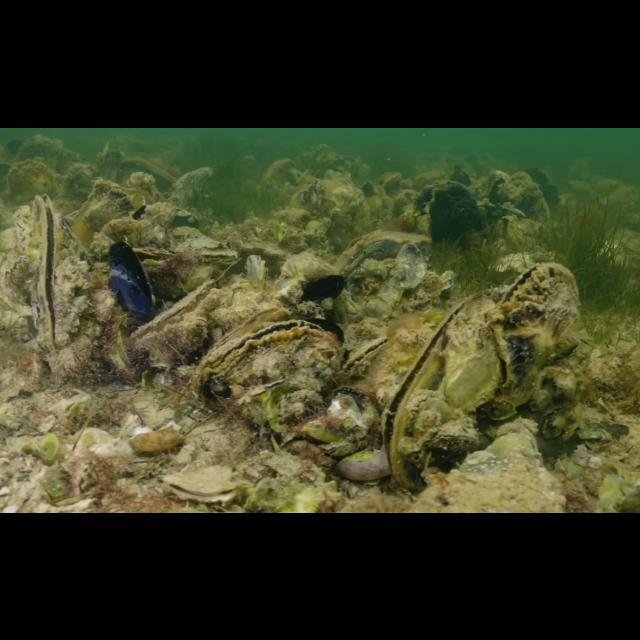Oyster-Closed: (132, 276, 216, 344), (332, 229, 432, 277), (104, 240, 156, 326), (131, 236, 239, 268), (406, 387, 446, 418), (10, 204, 34, 252), (0, 289, 34, 319), (314, 437, 356, 457), (4, 257, 32, 283)
Oyster-Open: (380, 281, 506, 489), (496, 260, 580, 398), (195, 319, 341, 397), (27, 192, 72, 354), (165, 460, 245, 504), (340, 333, 388, 373)
